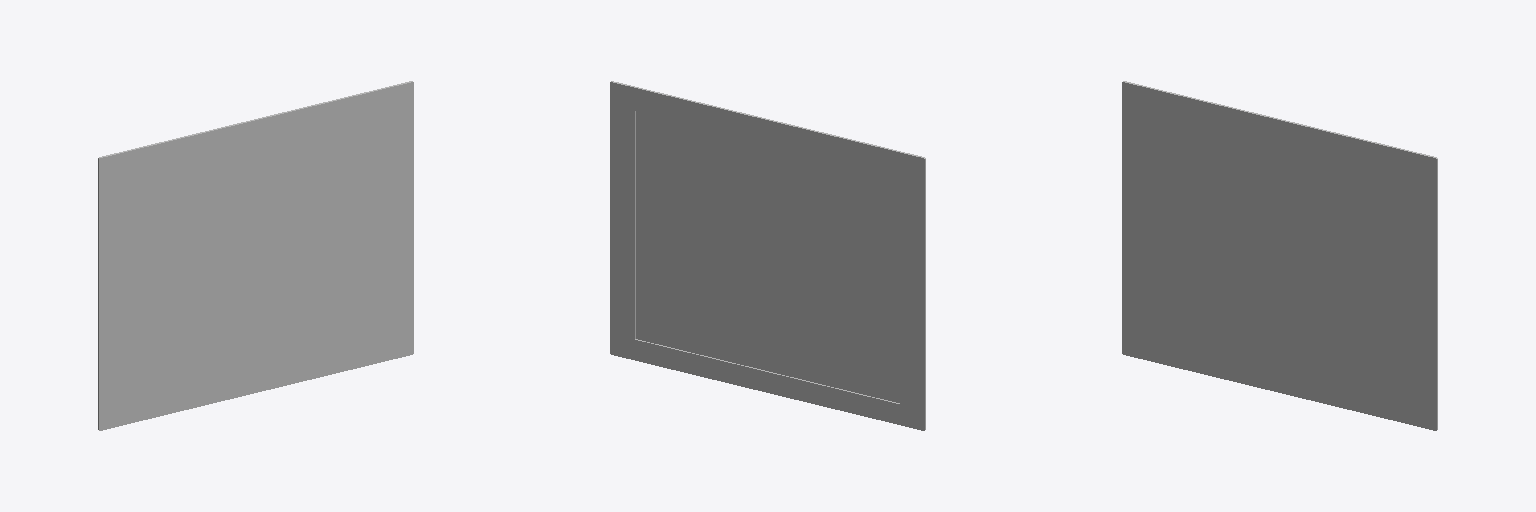
File: blocks-grass-pavement-16m.obj
3 renders of one model, left to right at view 1: azimuth 30°, elevation 25°; view 2: azimuth 150°, elevation 25°; view 3: azimuth 330°, elevation 25°, orthographic.
Parts seen in each view (by area): view 1: blocks-grass-pavement-16m_Plane.195; view 2: blocks-grass-pavement-16m_Plane.195; view 3: blocks-grass-pavement-16m_Plane.195.
Part boxes in pixels (x1,y1,x2,y2): blocks-grass-pavement-16m_Plane.195: (98, 81, 413, 430); blocks-grass-pavement-16m_Plane.195: (610, 81, 925, 430); blocks-grass-pavement-16m_Plane.195: (1122, 81, 1437, 430).
Bounding box in the file's own units: 20 × 16.56 × 0.15.